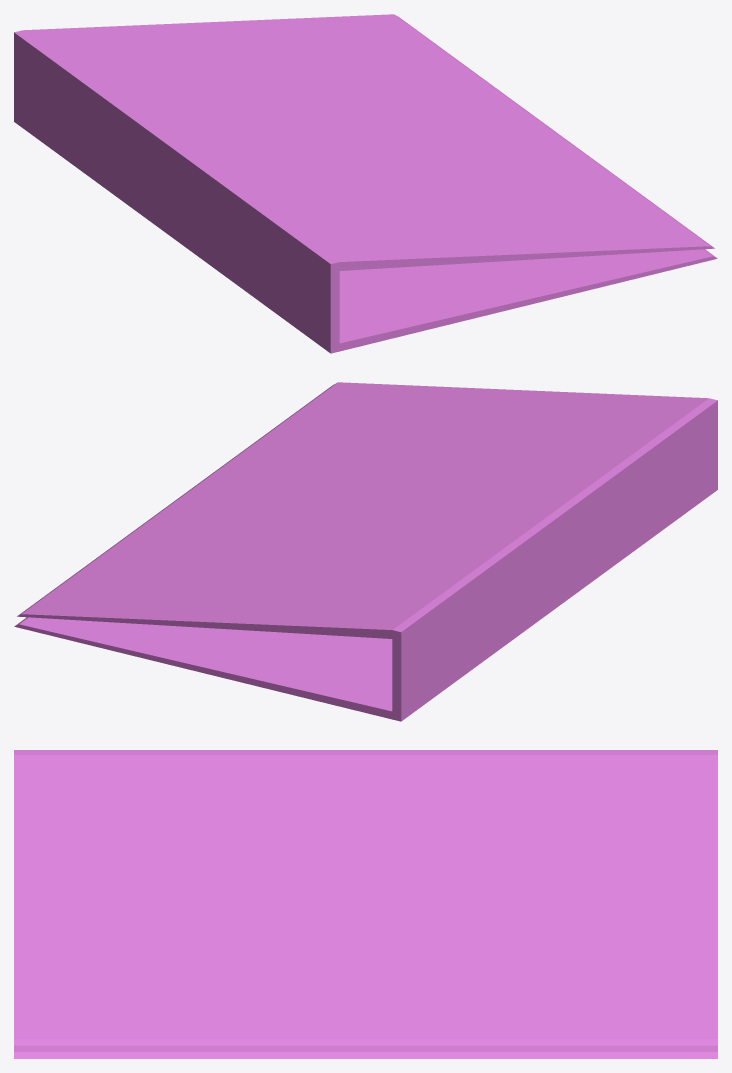
File: Carpeta 2.fbx
3 renders of one model, top to bottom at view 1: azimuth 30°, elevation 25°; view 2: azimuth 150°, elevation 25°; view 3: azimuth 270°, elevation 25°, orthographic. The views are drawn at different scales.
Parts seen in each view (by area): view 1: Carpeta_2; view 2: Carpeta_2; view 3: Carpeta_2.
Boxes of the visible parts, x1=… form: Carpeta_2: x1=14, y1=14, x2=717, y2=353; Carpeta_2: x1=14, y1=382, x2=717, y2=721; Carpeta_2: x1=14, y1=750, x2=717, y2=1058.
Bounding box in the file's own units: 0.2718 × 0.06 × 0.3852.
